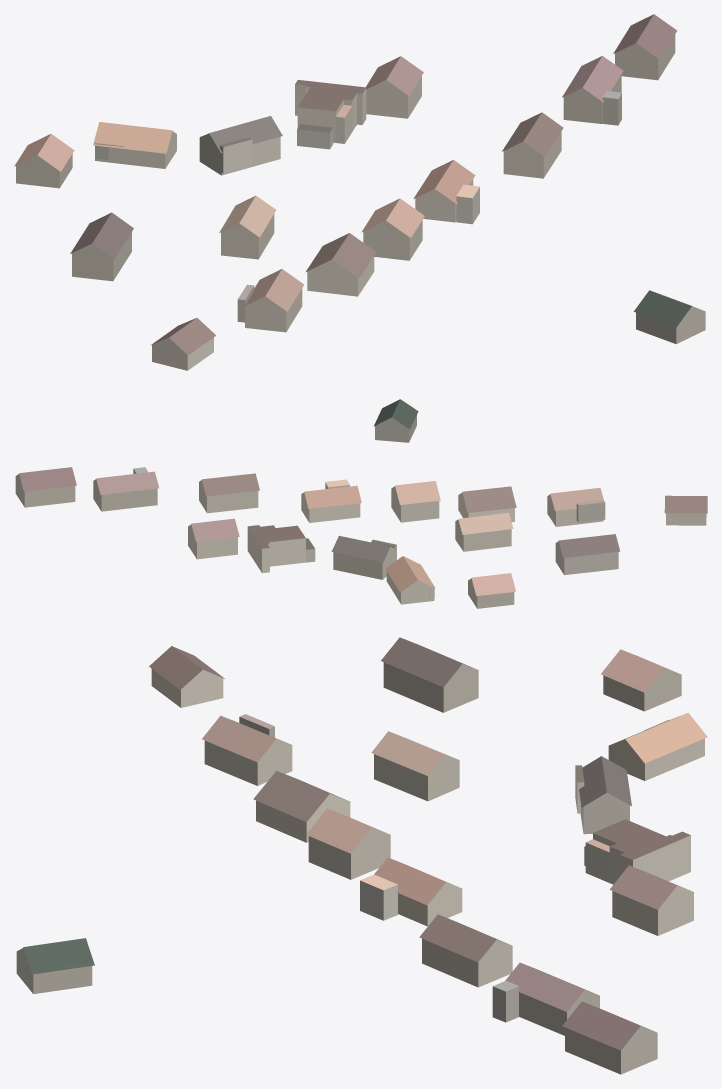
3 views of the same model, one above another, from view 1: azimuth 30°, elevation 25°; view 2: azimuth 150°, elevation 25°; view 3: azimuth 270°, elevation 25° (orthographic). The views are drawn at different scales.
Visible parts, largest first — view 1: tuile; view 2: tuile; view 3: tuile.
Boxes of the visible parts, x1,y1,x2,y2 form: tuile: (14, 14, 705, 370); tuile: (15, 399, 707, 608); tuile: (16, 637, 707, 1074).
Bounding box in the file's own units: 166 × 20.6 × 120.
